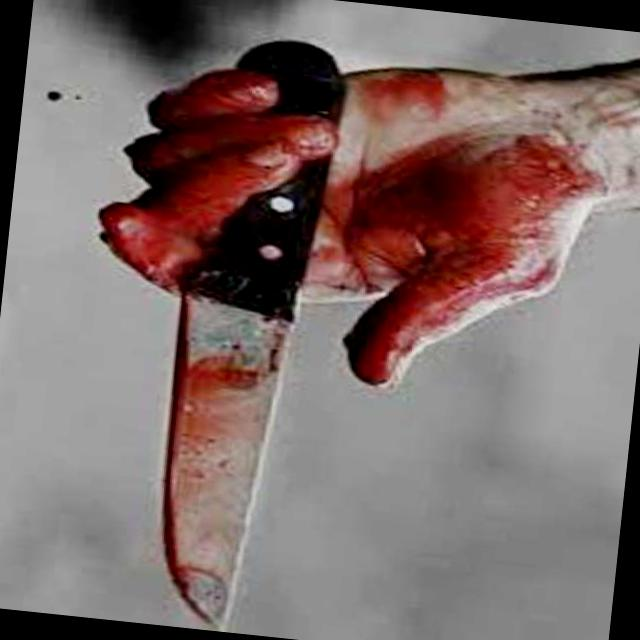knife: (45, 84, 466, 639)
